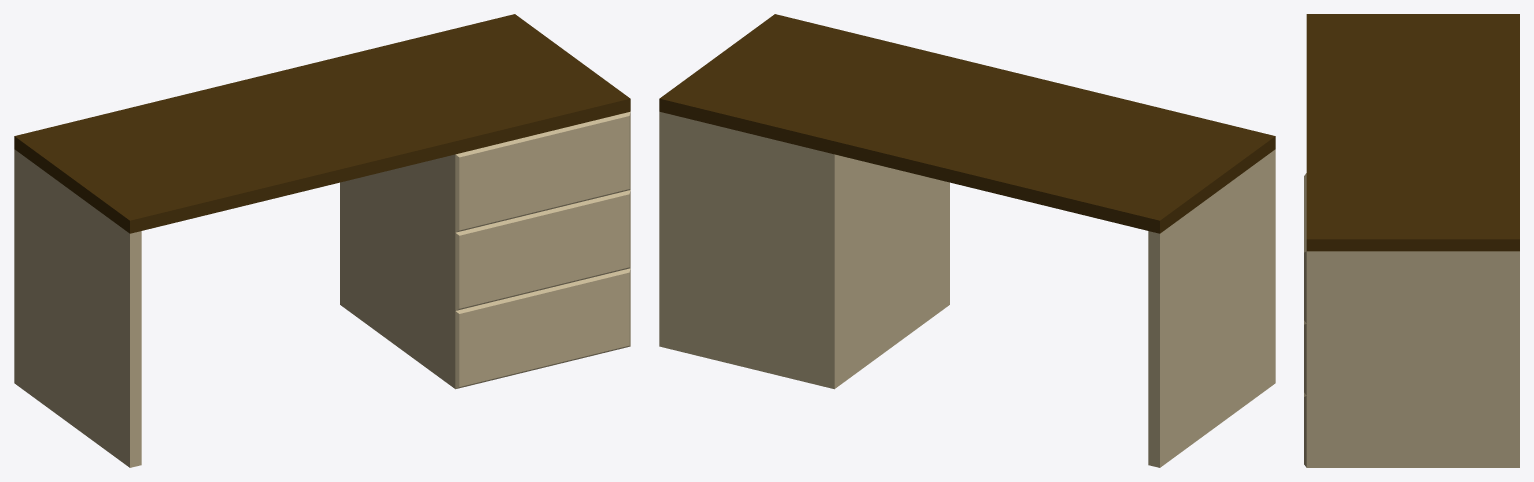
Rendered from Desk.glb.
3 views of the same model, side by side, from view 1: azimuth 30°, elevation 25°; view 2: azimuth 150°, elevation 25°; view 3: azimuth 270°, elevation 25° (orthographic). The views are drawn at different scales.
Parts seen in each view (by area): view 1: Desk; view 2: Desk; view 3: Desk.
Boxes of the visible parts, x1,y1,x2,y2 form: Desk: (14, 14, 630, 467); Desk: (659, 14, 1275, 467); Desk: (1304, 14, 1519, 467).
Size of the model in its own units: 2 by 0.9468 by 0.81.
